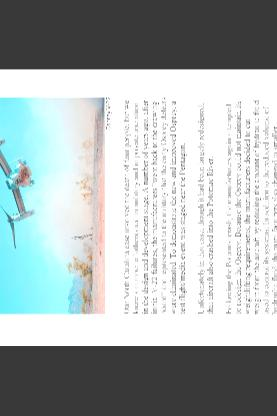Tornado: (0, 127, 34, 250)
